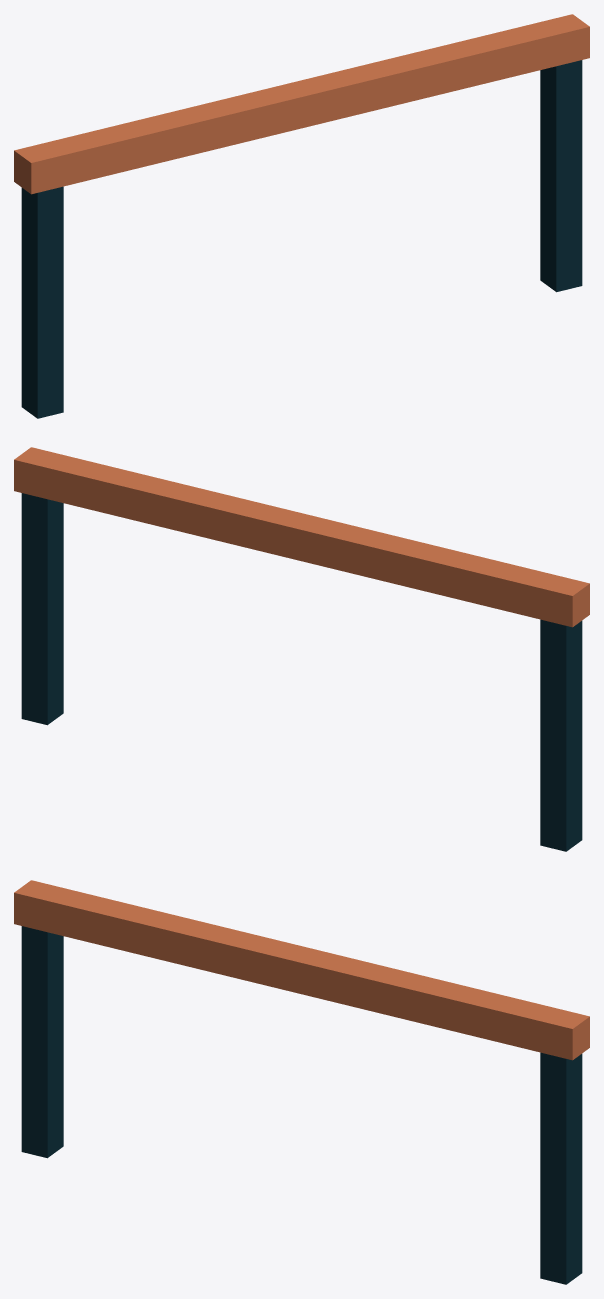
Rendered from rail.glb.
3 renders of one model, top to bottom at view 1: azimuth 30°, elevation 25°; view 2: azimuth 150°, elevation 25°; view 3: azimuth 330°, elevation 25°, orthographic.
Parts seen in each view (by area): view 1: rail; view 2: rail; view 3: rail.
Boxes of the visible parts, bbox=[...] form: rail: bbox=[14, 14, 589, 418]; rail: bbox=[14, 447, 589, 851]; rail: bbox=[14, 880, 589, 1284].
Size of the model in its own units: 2.8 by 1.23 by 0.15.
